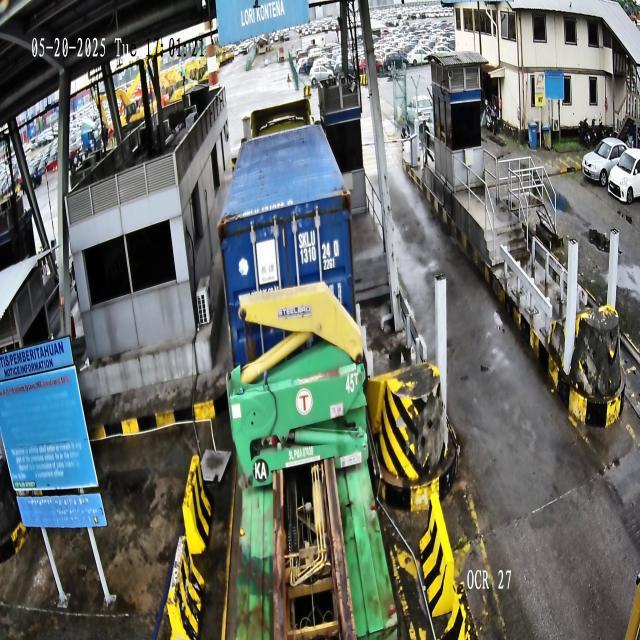ISO: (322, 258, 335, 272)
container_number: (298, 230, 342, 264)
